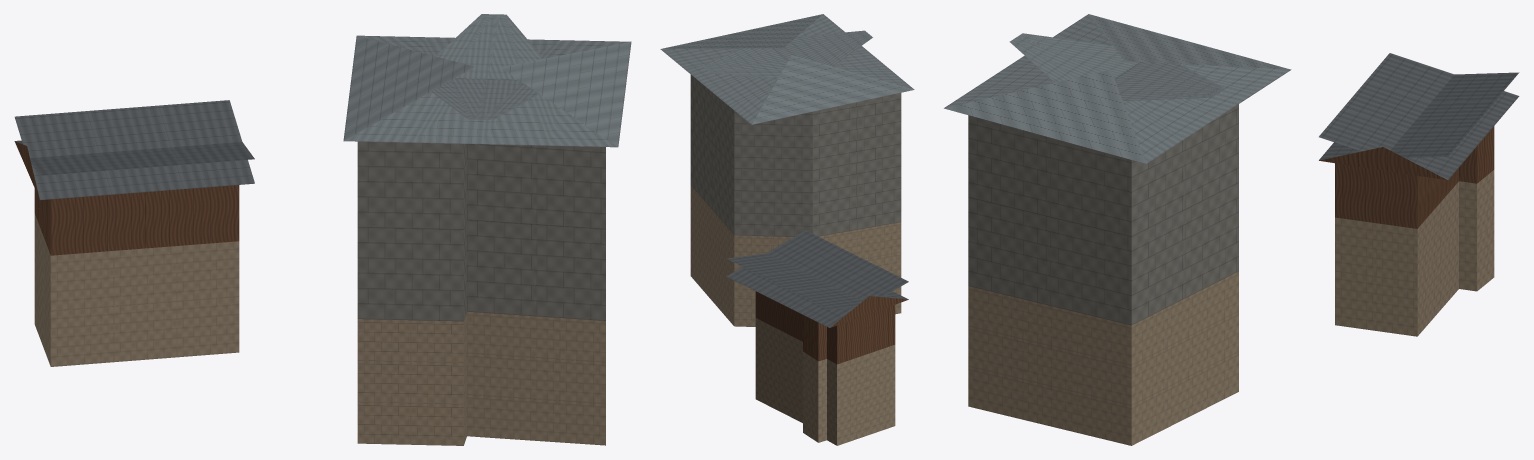
File: bld_c22_45_395.gltf
The picture shows the model from 3 angles, left to right: view 1: azimuth 30°, elevation 25°; view 2: azimuth 150°, elevation 25°; view 3: azimuth 270°, elevation 25°; orthographic projection. The views are drawn at different scales.
Visible parts, largest first — view 1: bld_c22_45_395; view 2: bld_c22_45_395; view 3: bld_c22_45_395.
Part boxes in pixels (box(x1,y1,x2,y2)): bld_c22_45_395: box(14, 14, 631, 445); bld_c22_45_395: box(660, 14, 914, 445); bld_c22_45_395: box(944, 14, 1519, 445).
Size of the model in its own units: 19.96 by 13.7 by 22.08.
6 materials, 6 textured.
